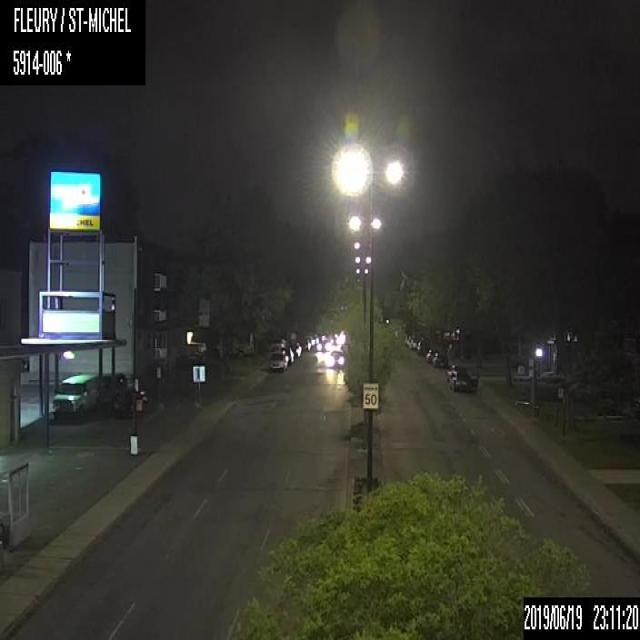vehicle: (51, 370, 97, 419), (446, 364, 478, 392), (326, 347, 345, 371), (267, 350, 286, 372), (434, 353, 449, 368)
